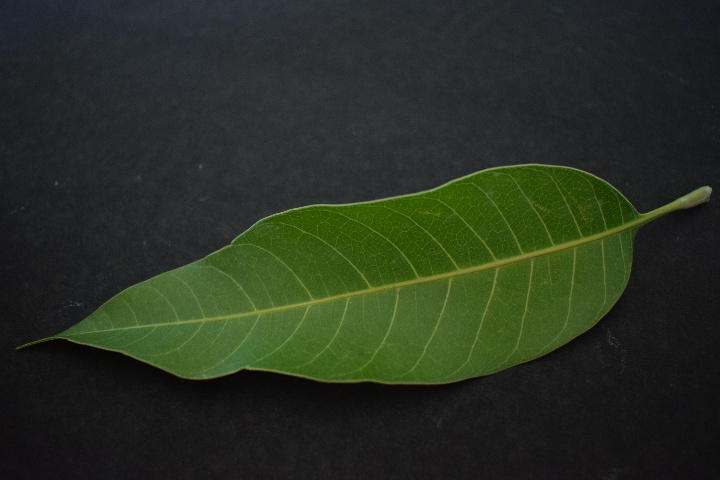healthy: (79, 162, 636, 394)
